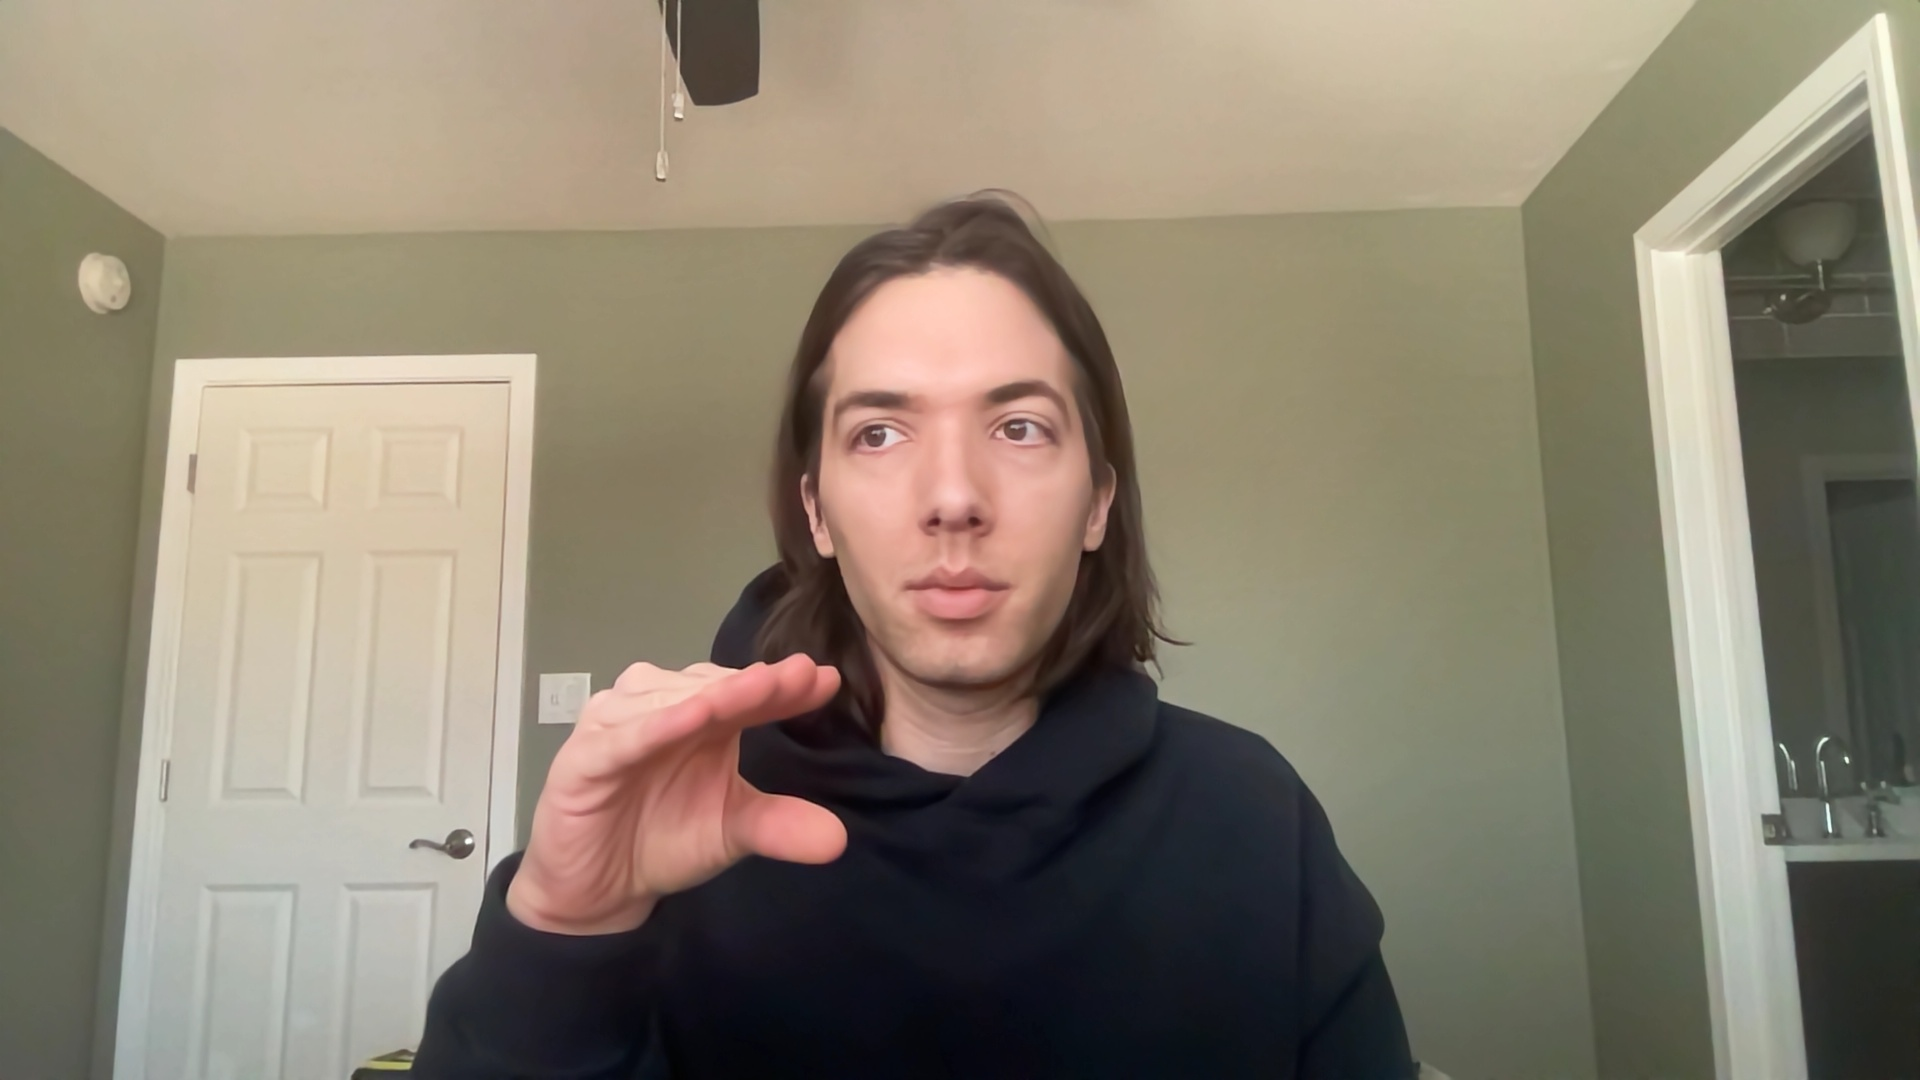No: (488, 644, 868, 949)
